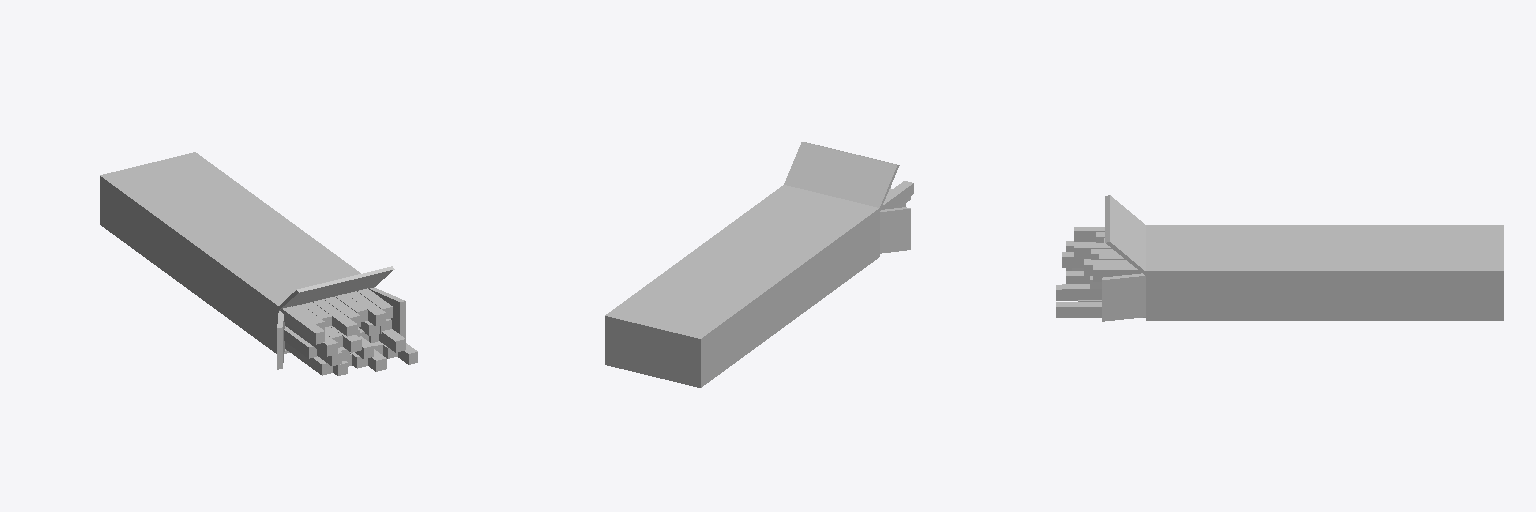
The model's file is pacchetto_spaghetti.obj.
The picture shows the model from 3 angles: view 1: azimuth 30°, elevation 25°; view 2: azimuth 150°, elevation 25°; view 3: azimuth 270°, elevation 25°; orthographic projection.
Parts seen in each view (by area): view 1: obj0, obj1; view 2: obj0, obj1; view 3: obj0, obj1.
Boxes of the visible parts, box(x1,y1,x2,y2) form: obj0: box(100, 152, 405, 369); obj1: box(280, 288, 417, 375); obj0: box(605, 142, 910, 387); obj1: box(880, 181, 913, 210); obj0: box(1102, 195, 1503, 321); obj1: box(1056, 227, 1145, 317).
Bounding box in the file's own units: 0.7965 × 0.4946 × 2.53.